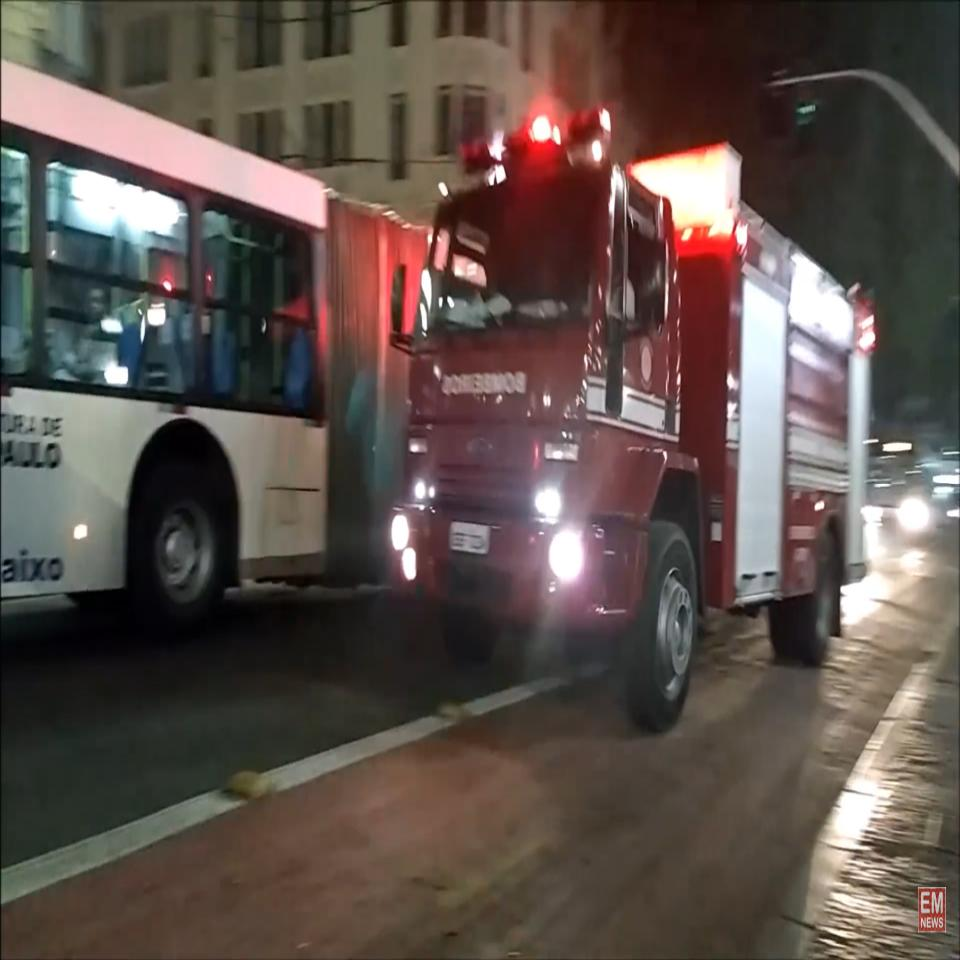viatura: (377, 102, 878, 737)
